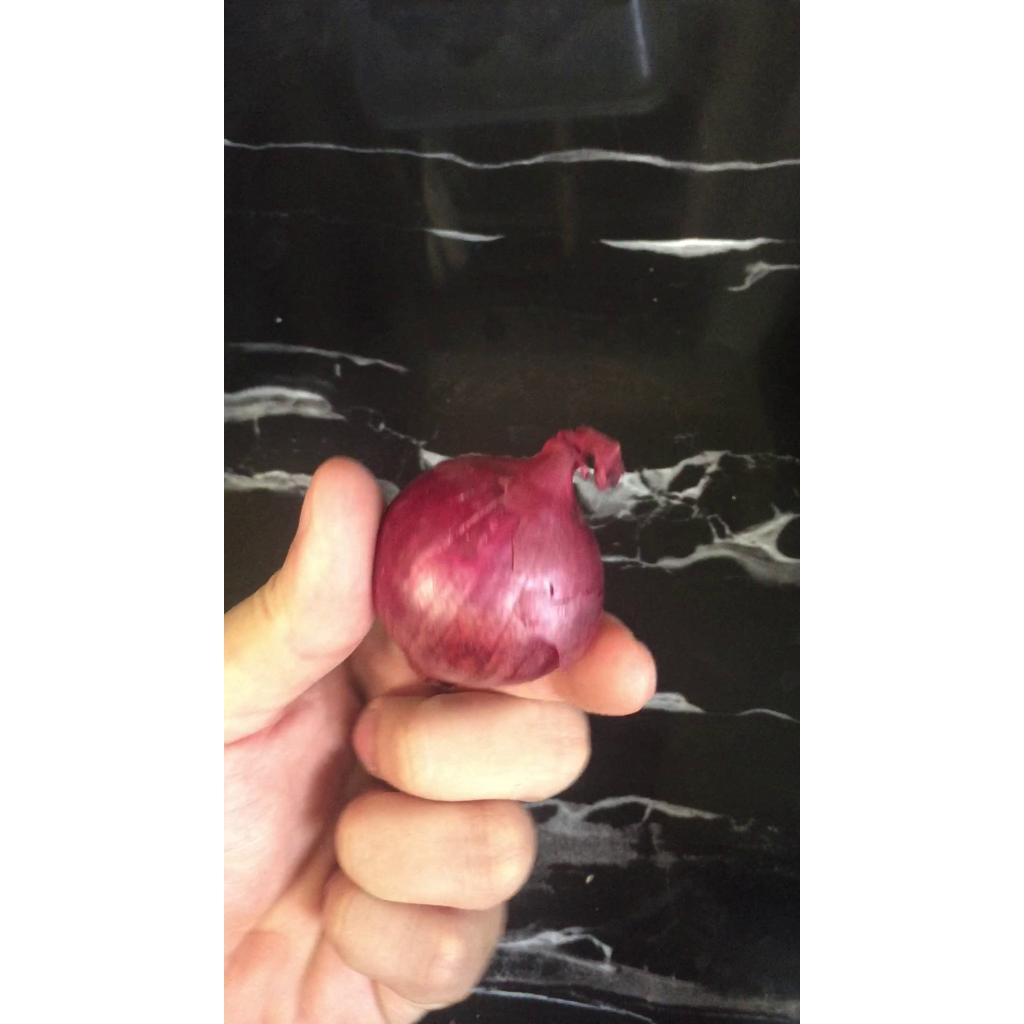Onion: (372, 427, 623, 689)
